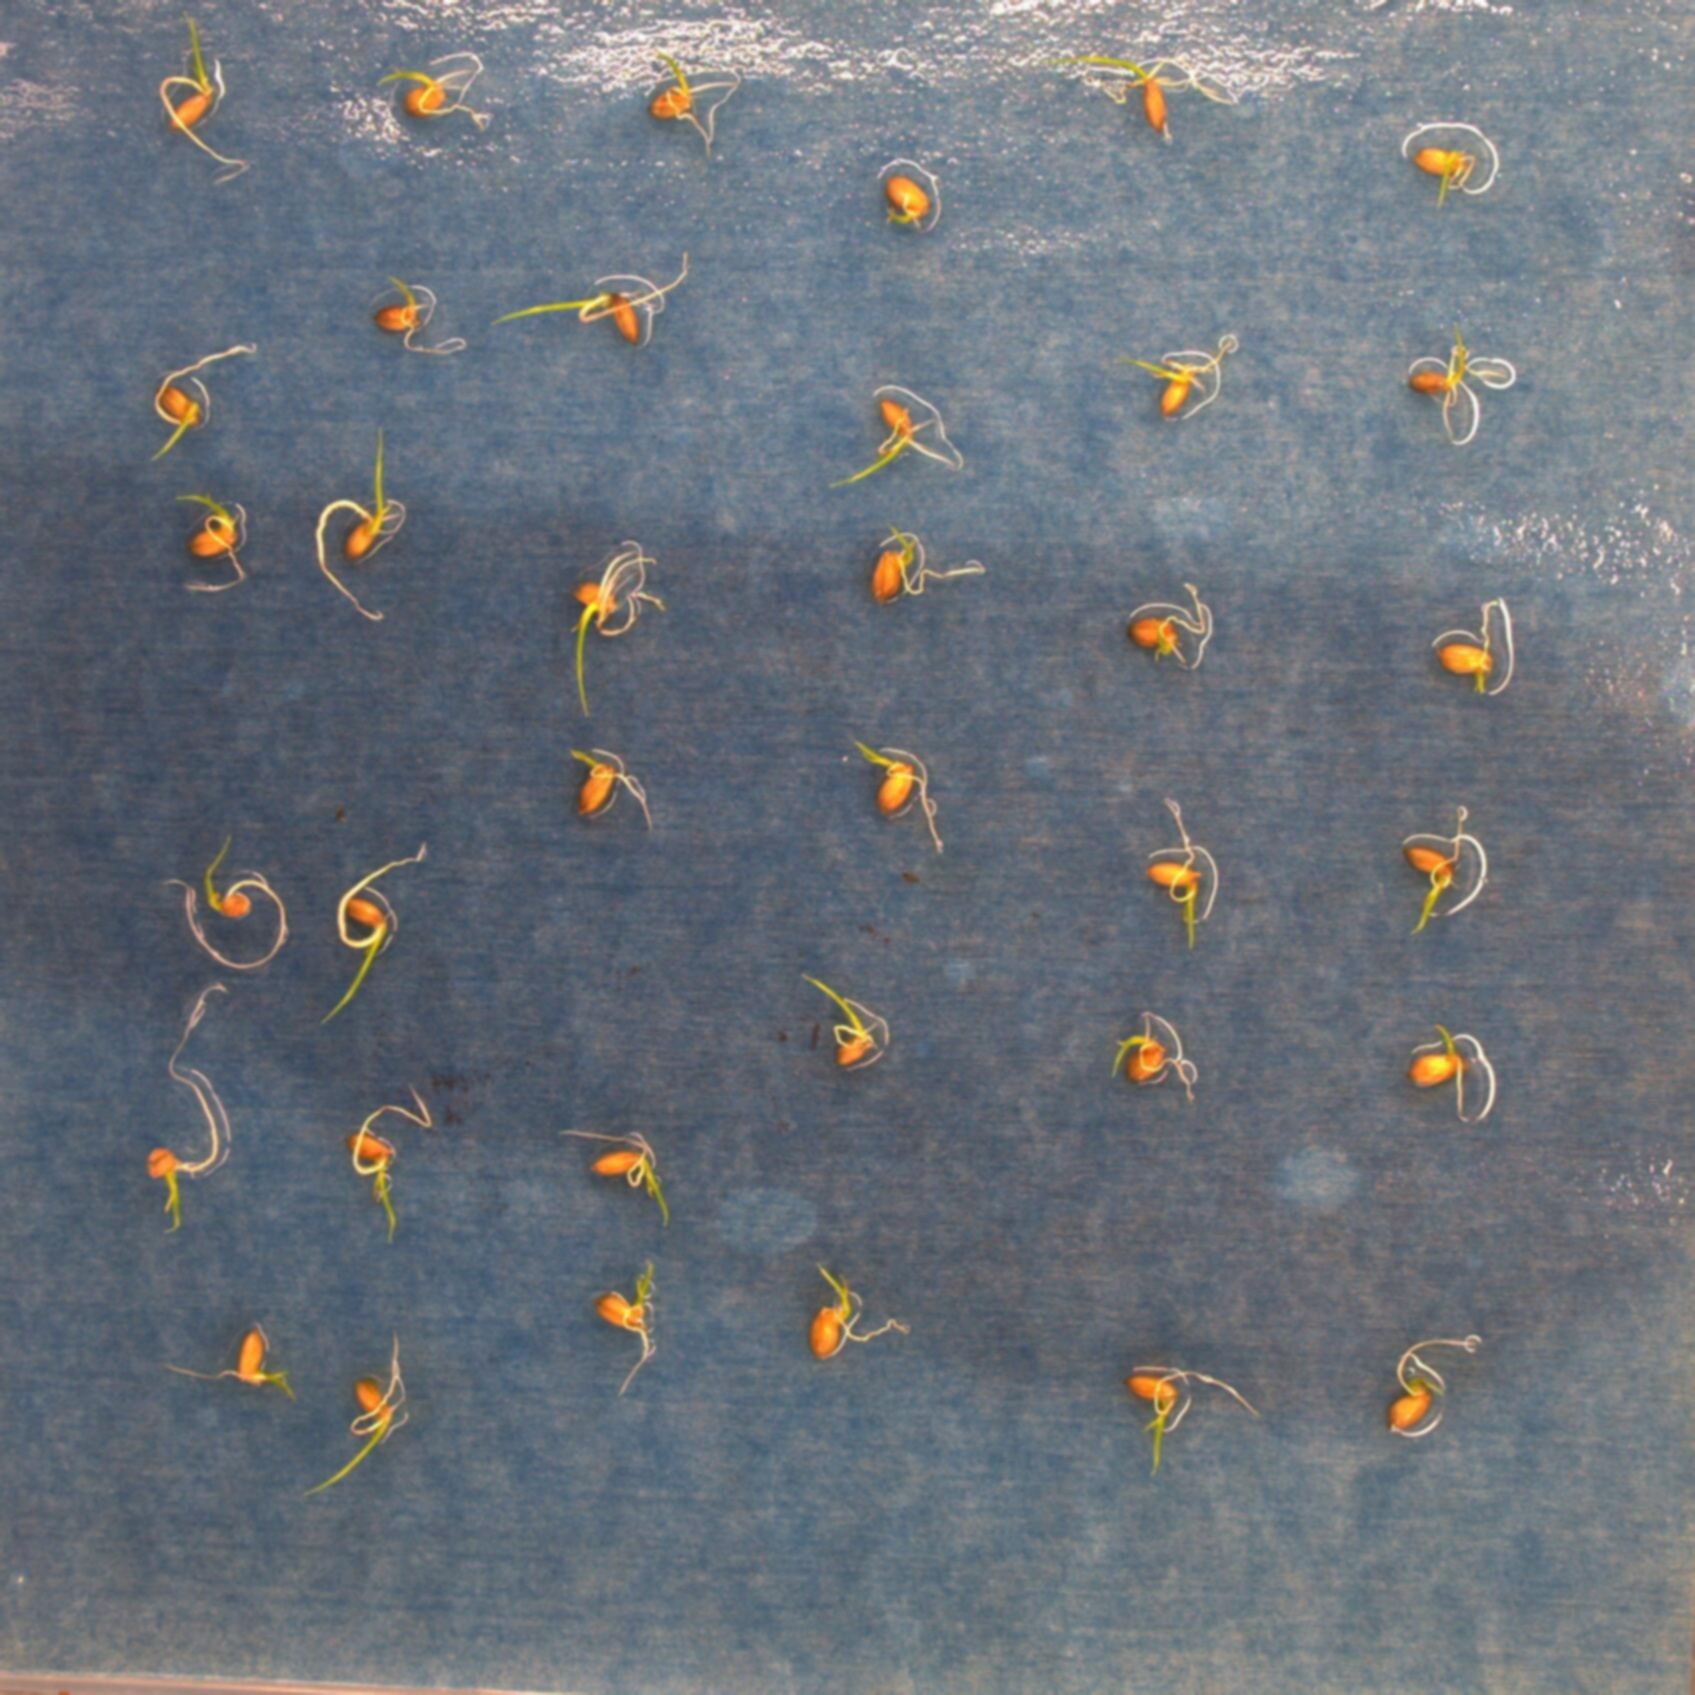not sprout: (1113, 1357, 1274, 1482), (1428, 598, 1513, 706), (366, 264, 456, 366), (1142, 337, 1226, 438), (1411, 118, 1485, 189), (875, 168, 947, 236)
sprout: (539, 241, 744, 369), (324, 837, 438, 1040), (147, 830, 304, 972), (324, 413, 425, 627), (309, 1076, 421, 1263), (1060, 64, 1256, 160), (567, 525, 669, 702), (144, 3, 241, 189), (1124, 782, 1225, 951), (348, 1309, 433, 1499), (154, 328, 261, 473), (570, 1091, 692, 1218), (175, 1136, 278, 1288), (397, 29, 504, 165), (846, 730, 947, 860), (860, 503, 973, 615), (775, 1262, 899, 1361), (1400, 799, 1482, 945), (584, 1257, 669, 1395), (633, 47, 745, 151), (1388, 354, 1504, 452), (1394, 1336, 1487, 1454), (183, 467, 259, 612), (824, 975, 913, 1097), (1122, 594, 1218, 698), (875, 368, 955, 481), (160, 1333, 298, 1397), (1118, 1007, 1200, 1108), (1405, 1029, 1496, 1108), (556, 739, 638, 826)
